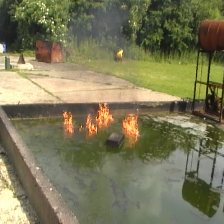fire_h: (97, 104, 112, 129), (123, 114, 139, 136)
fire_l: (86, 113, 98, 138), (62, 111, 73, 137), (78, 124, 85, 130)
